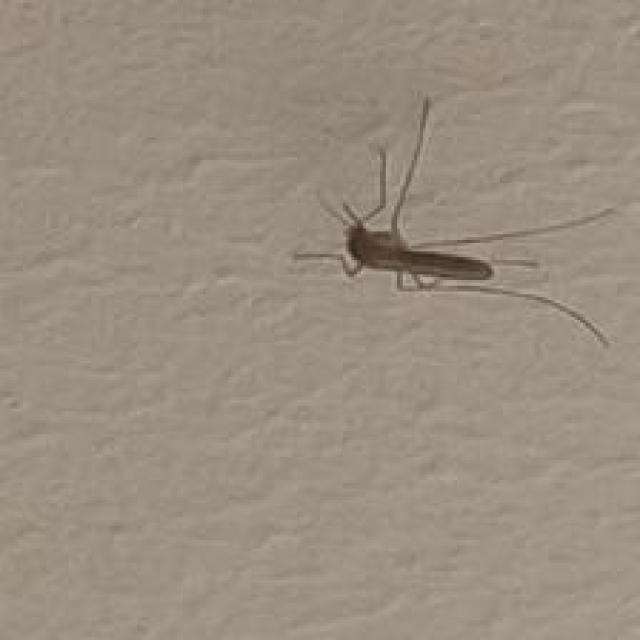Culex: (292, 94, 617, 349)
